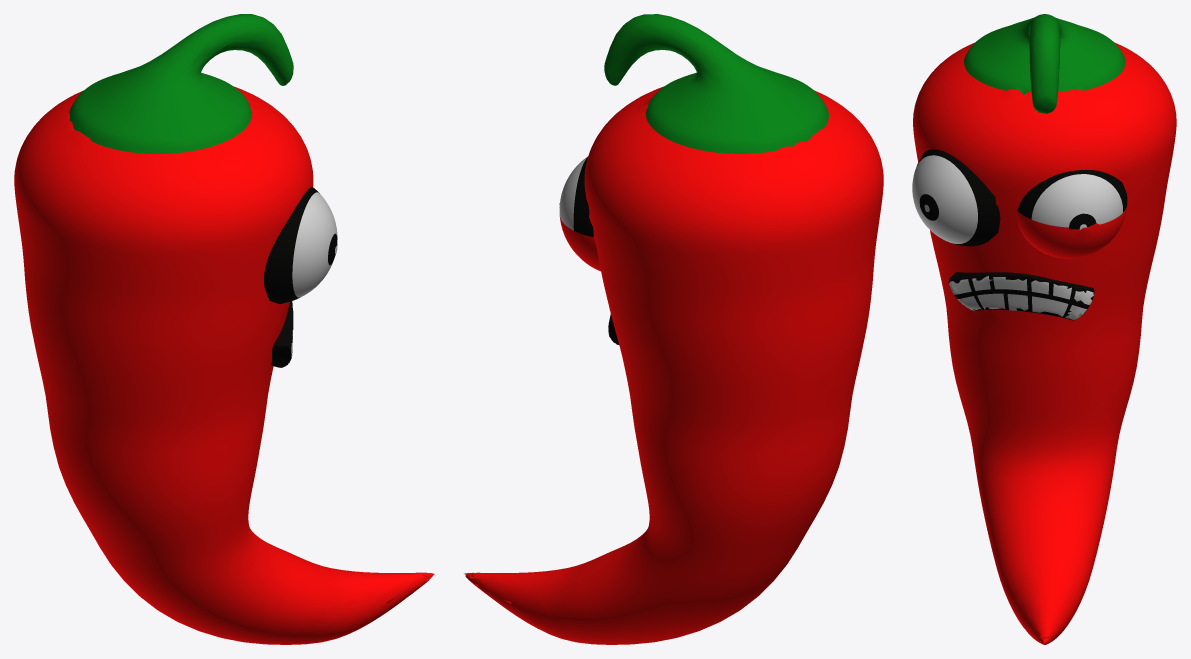
The model's file is 火爆辣椒.obj.
The picture shows the model from 3 angles, left to right: view 1: azimuth 30°, elevation 25°; view 2: azimuth 150°, elevation 25°; view 3: azimuth 270°, elevation 25°; orthographic projection. The views are drawn at different scales.
Parts seen in each view (by area): view 1: yanglintaobao888_7; view 2: yanglintaobao888_7; view 3: yanglintaobao888_7.
Boxes of the visible parts, x1,y1,x2,y2 form: yanglintaobao888_7: [14, 14, 434, 644]; yanglintaobao888_7: [464, 14, 883, 644]; yanglintaobao888_7: [912, 14, 1176, 644].
Bounding box in the file's own units: 1.45 × 2.22 × 0.942.
